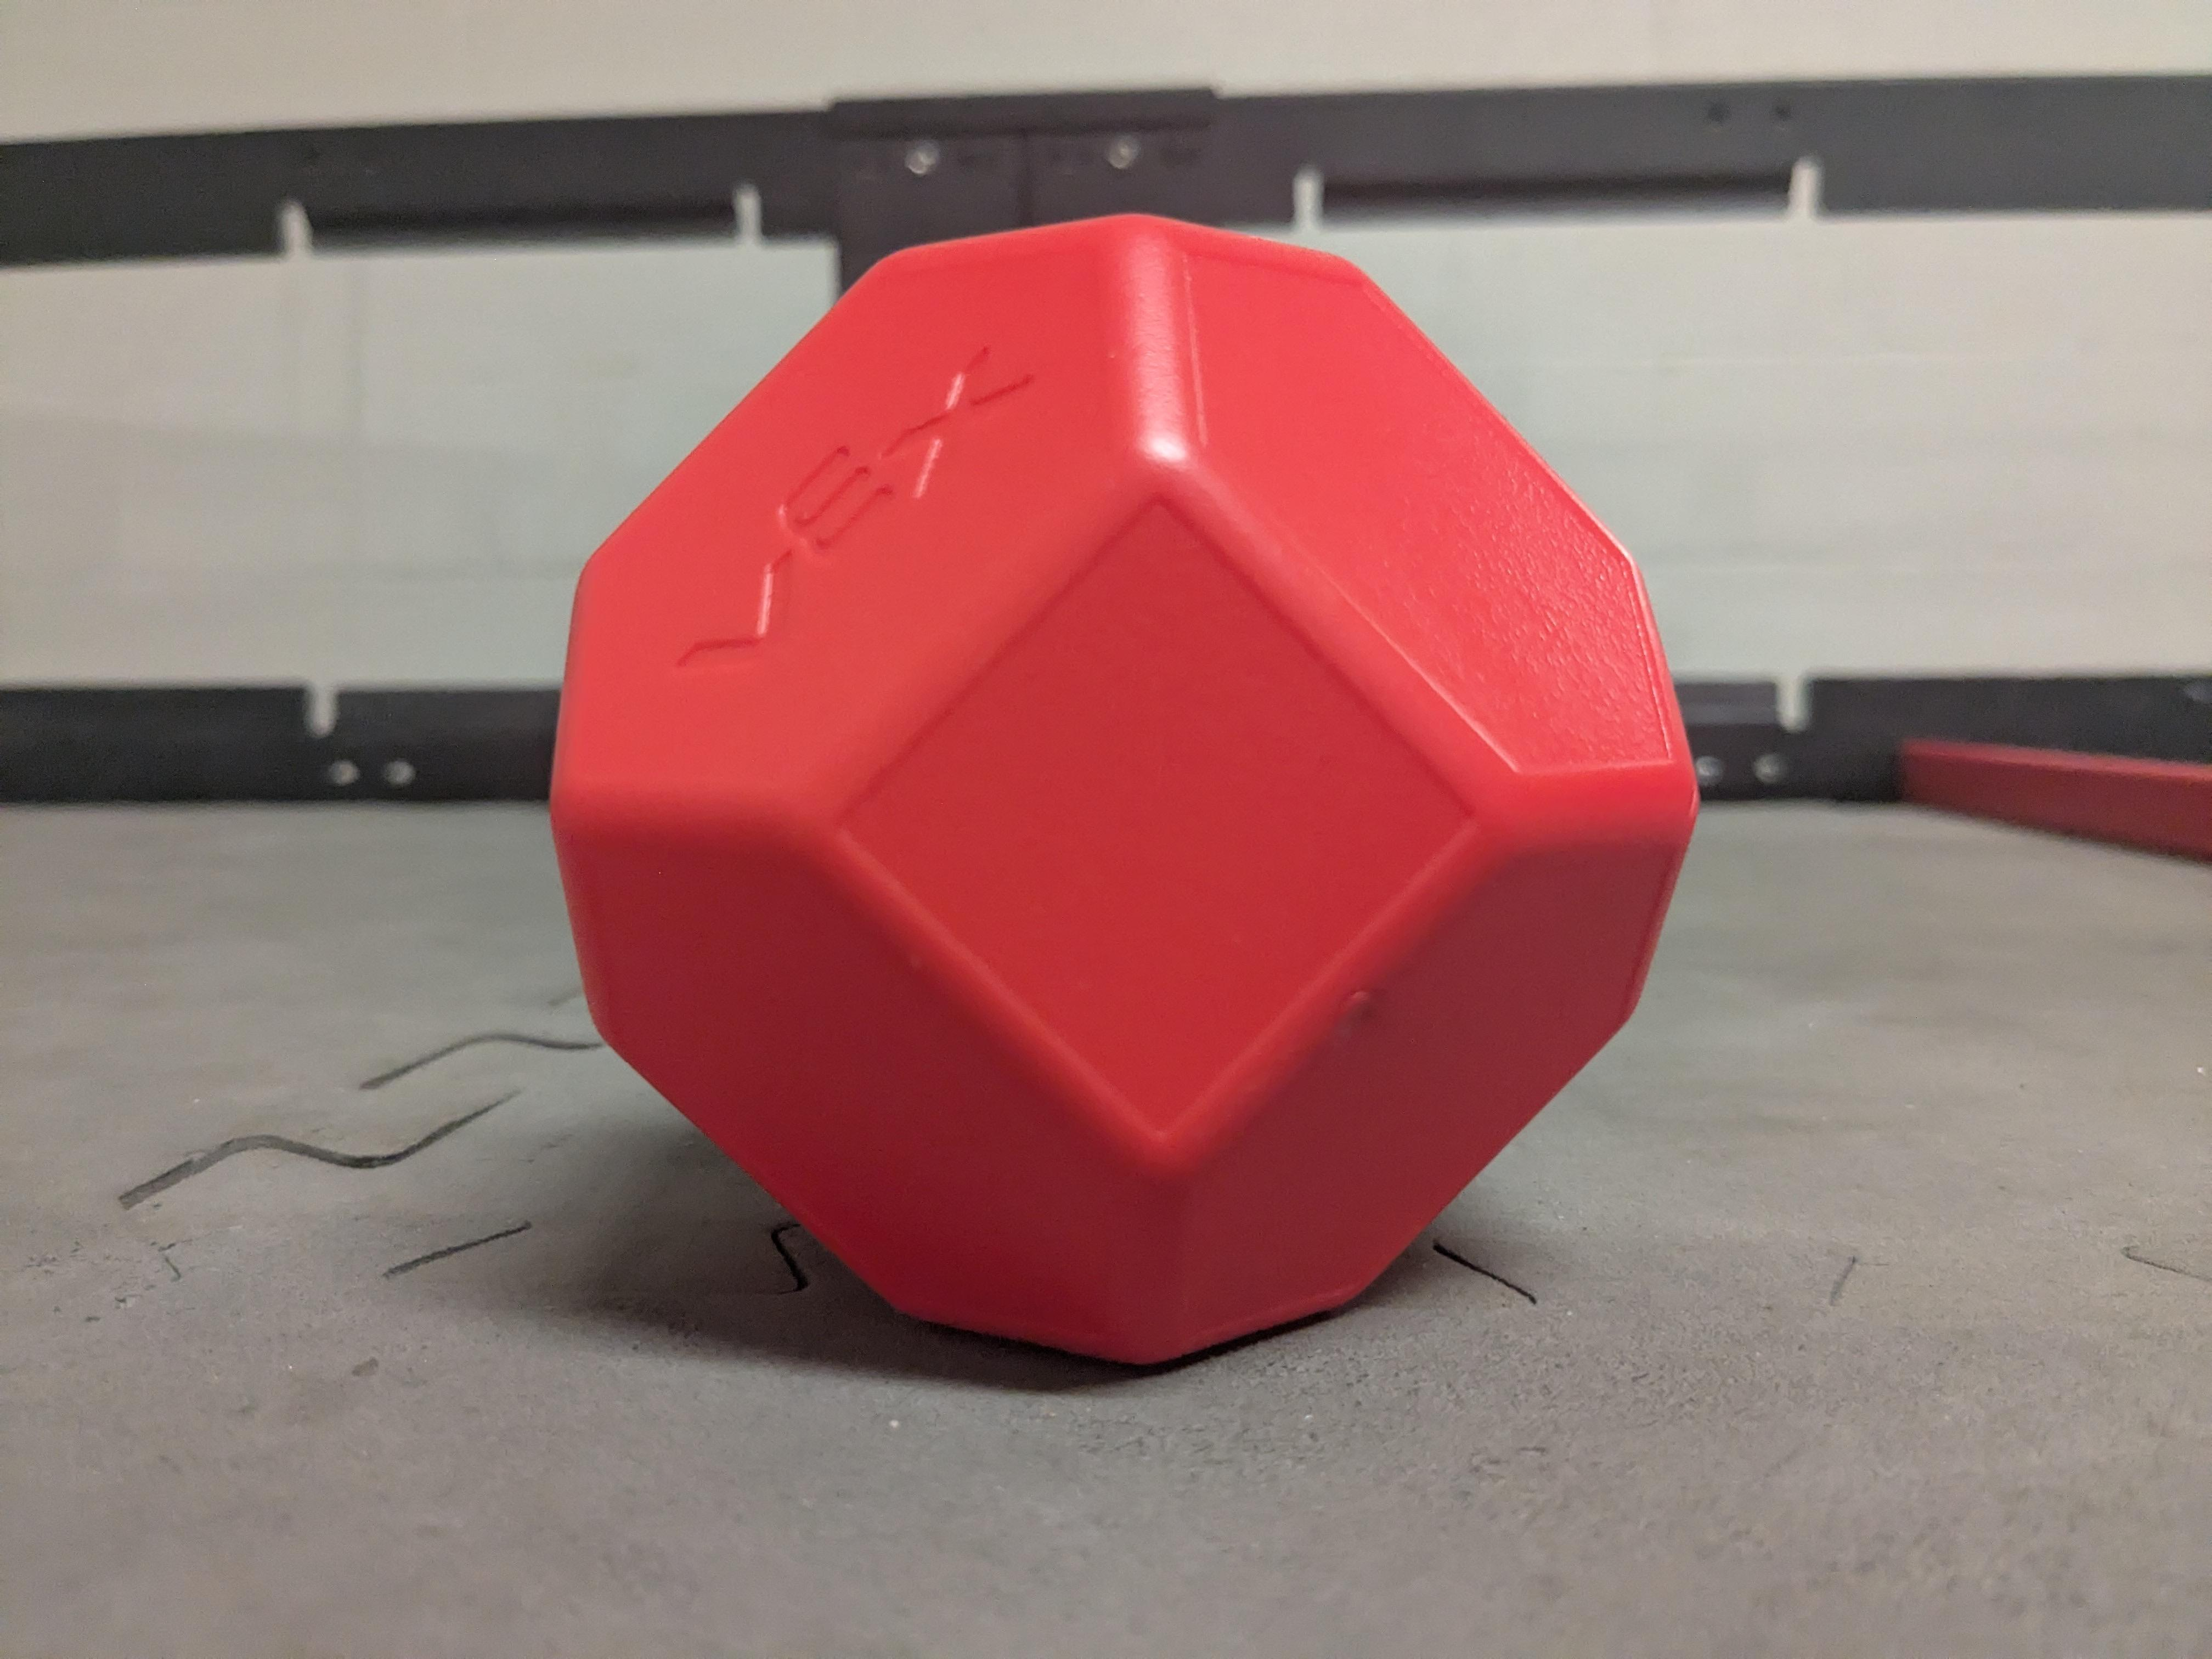Vex-Pieces-RED: (552, 218, 1695, 1358)
